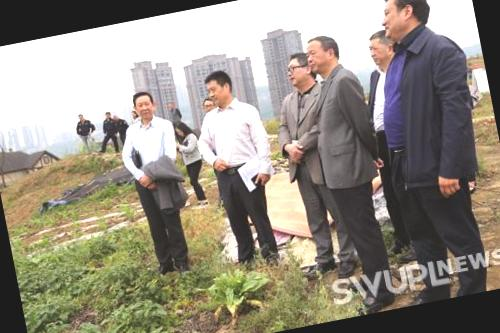no_helmet: (372, 0, 435, 42), (302, 29, 345, 76), (360, 26, 400, 69), (200, 65, 238, 108), (282, 48, 316, 88), (128, 86, 160, 123), (172, 120, 194, 140)
